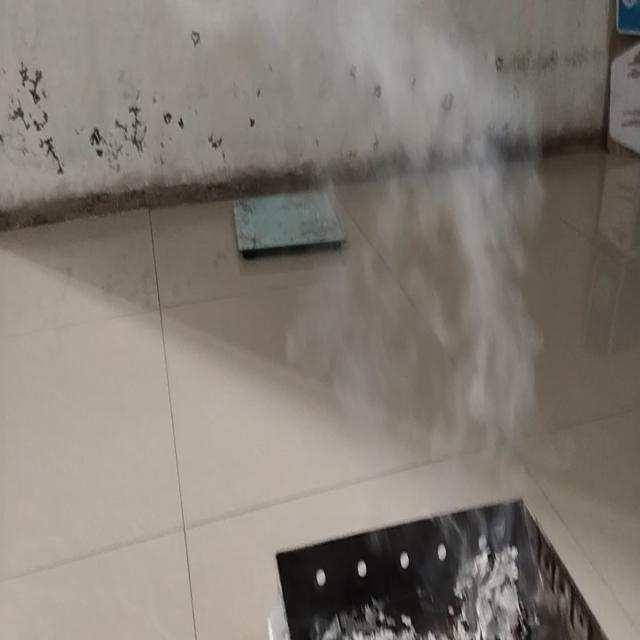fire: (356, 9, 545, 464)
